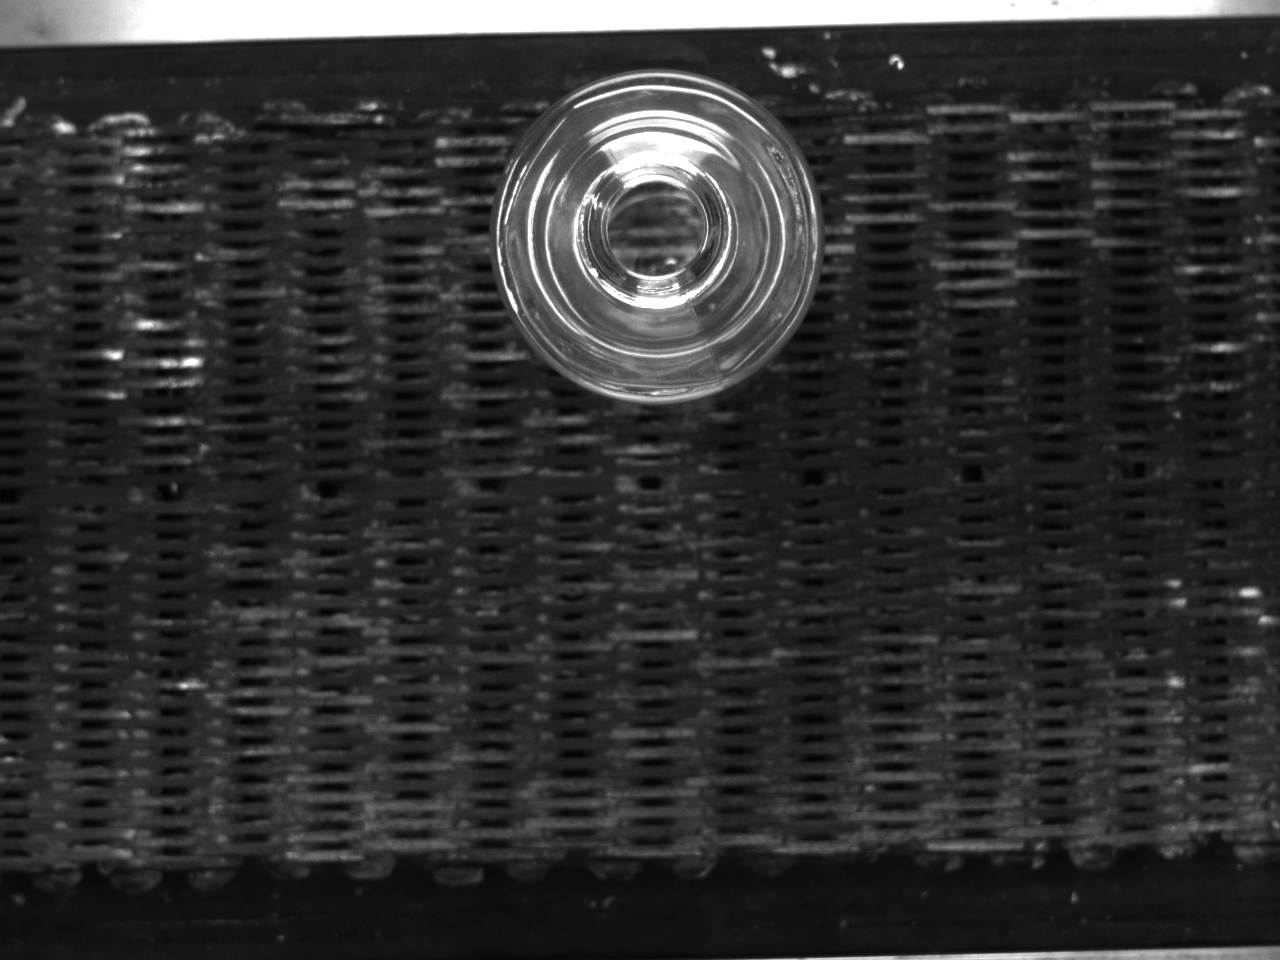bottleneck: (578, 154, 737, 307)
